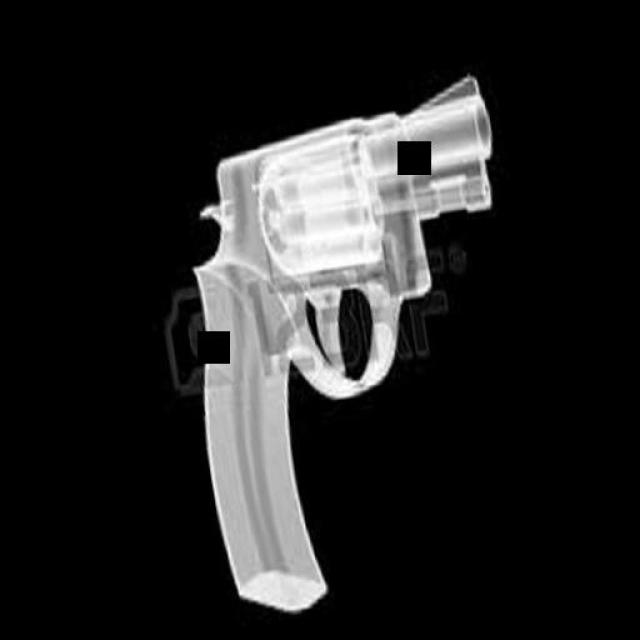gun: (141, 59, 559, 624)
